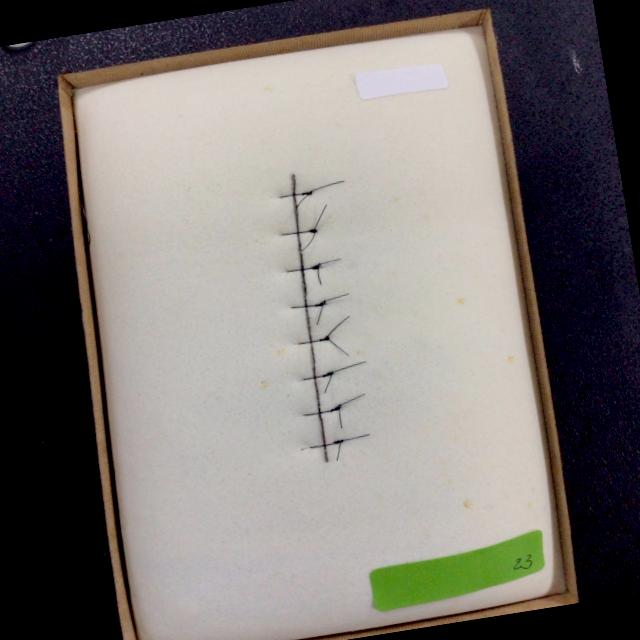knot: (327, 402, 344, 414), (312, 298, 329, 309), (308, 261, 324, 272), (319, 369, 336, 379), (330, 437, 347, 446), (317, 334, 332, 344), (299, 188, 315, 197), (306, 227, 320, 235)
leftover: (326, 314, 351, 338), (308, 179, 346, 194), (324, 337, 351, 357), (330, 360, 368, 374), (312, 203, 328, 232), (299, 229, 317, 252), (338, 392, 367, 406), (293, 191, 312, 212), (320, 292, 351, 304), (340, 433, 371, 442), (316, 257, 343, 267), (323, 371, 334, 394), (315, 303, 325, 326), (335, 439, 343, 462), (337, 405, 343, 430), (316, 266, 323, 286)
stitch: (301, 403, 342, 416), (295, 334, 330, 345), (308, 439, 345, 449), (301, 370, 334, 381), (285, 263, 320, 273), (288, 301, 325, 309), (278, 191, 313, 199), (281, 229, 318, 236)
wound: (290, 172, 329, 463)
